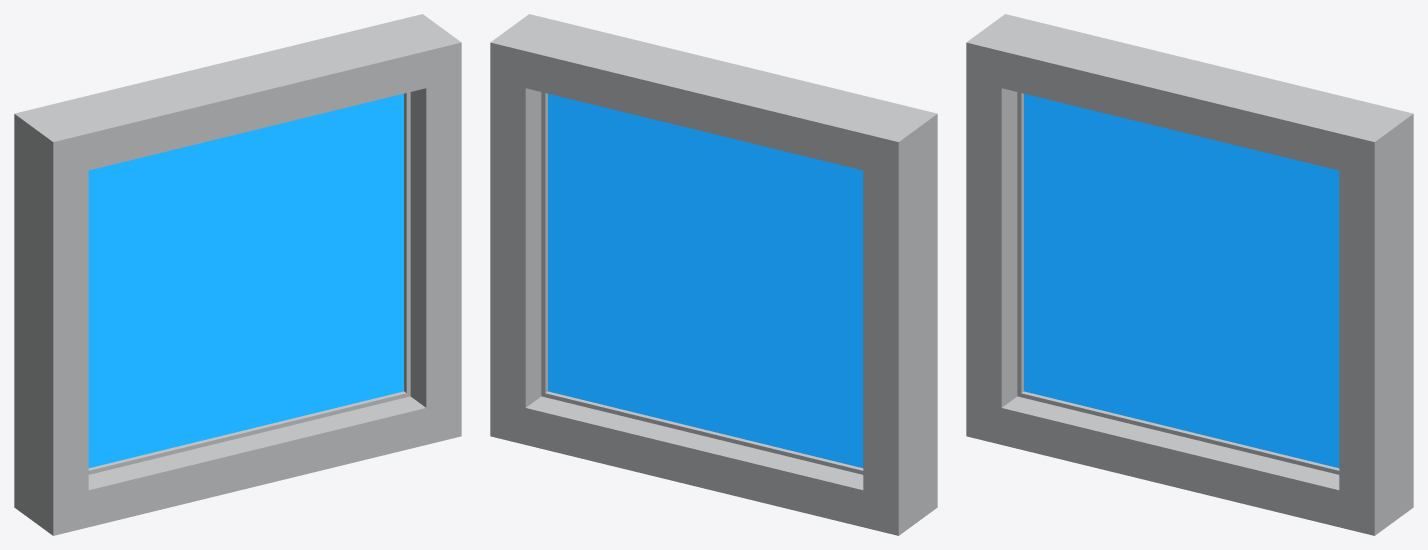
Rendered from janela_quadrada_inteira_branca.glb.
3 renders of one model, left to right at view 1: azimuth 30°, elevation 25°; view 2: azimuth 150°, elevation 25°; view 3: azimuth 330°, elevation 25°, orthographic.
Visible parts, largest first — view 1: janela_quadrada_inteira_branca; view 2: janela_quadrada_inteira_branca; view 3: janela_quadrada_inteira_branca.
Part boxes in pixels (bbox=[...]): janela_quadrada_inteira_branca: bbox=[14, 14, 461, 535]; janela_quadrada_inteira_branca: bbox=[490, 14, 937, 535]; janela_quadrada_inteira_branca: bbox=[966, 14, 1413, 535].
Bounding box in the file's own units: 1.27 × 1.17 × 0.21.
